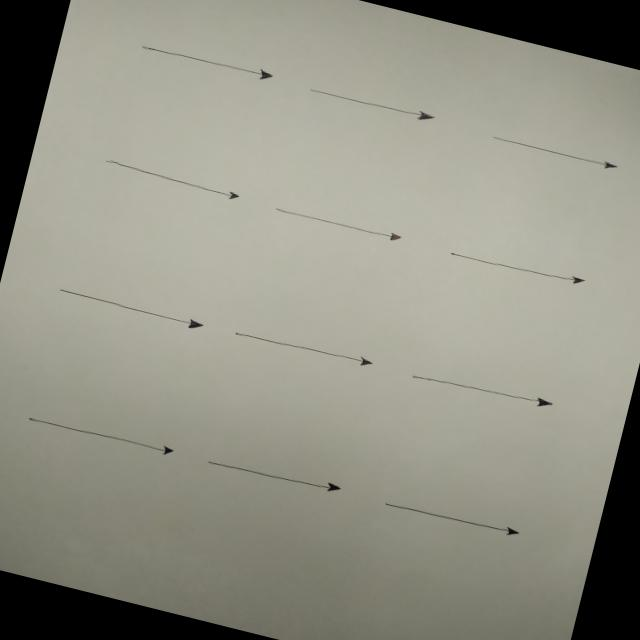arrow_line_up: (169, 34, 228, 138), (470, 378, 530, 477), (438, 504, 501, 596), (78, 418, 136, 511), (378, 87, 436, 177), (343, 215, 399, 308), (546, 132, 601, 223), (142, 168, 196, 258), (270, 463, 320, 557), (298, 340, 348, 428), (114, 299, 158, 387), (511, 258, 552, 340)
